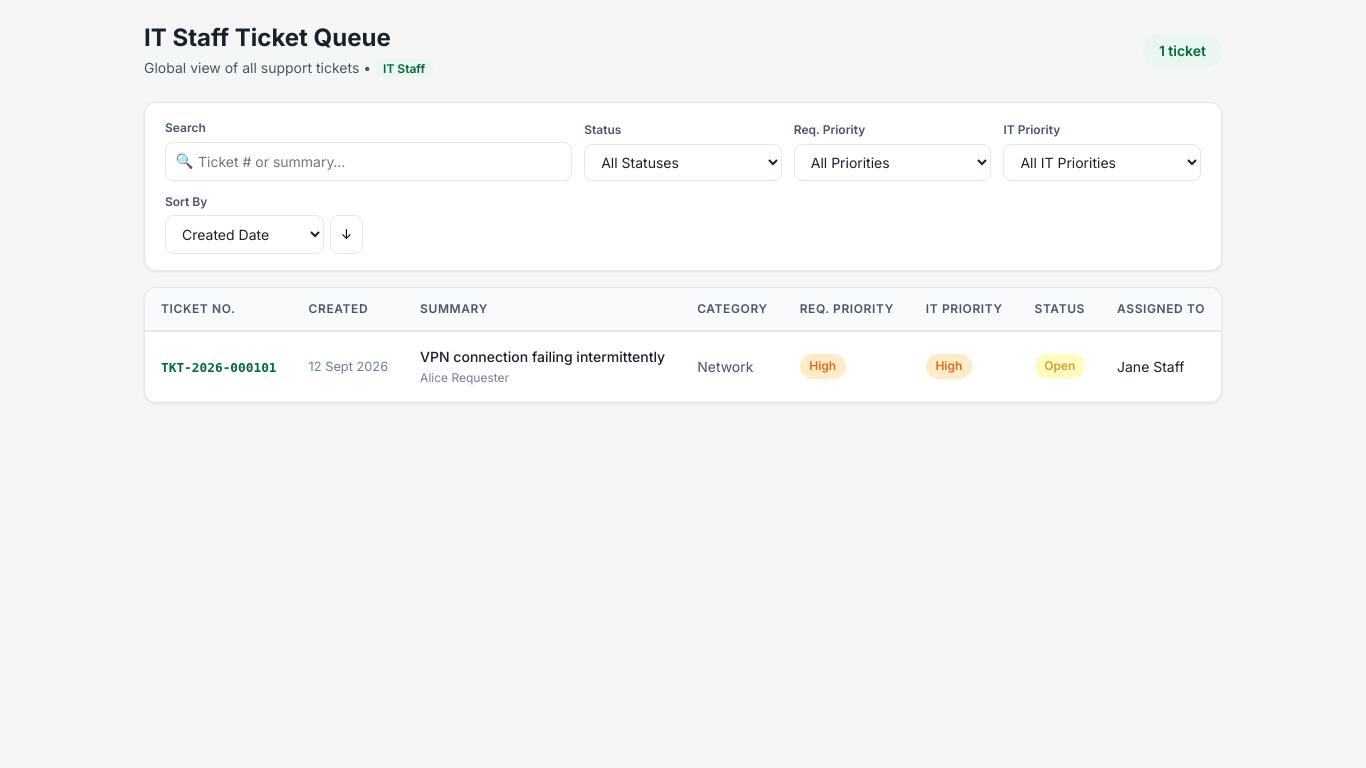
Test: StaffTicketQueue Component › shows no-results state when search/filter query returns no tickets
Expected: the text "TKT-2026-000101" is shown, x1=161 y1=360 x2=277 y2=375
# Type something in the search box to trigger a re-fetch with empty result
In the field with placeholder "Ticket # or summary…": coordinates (369, 161) x1=165 y1=142 x2=572 y2=181, type "nonexistent-search-term"
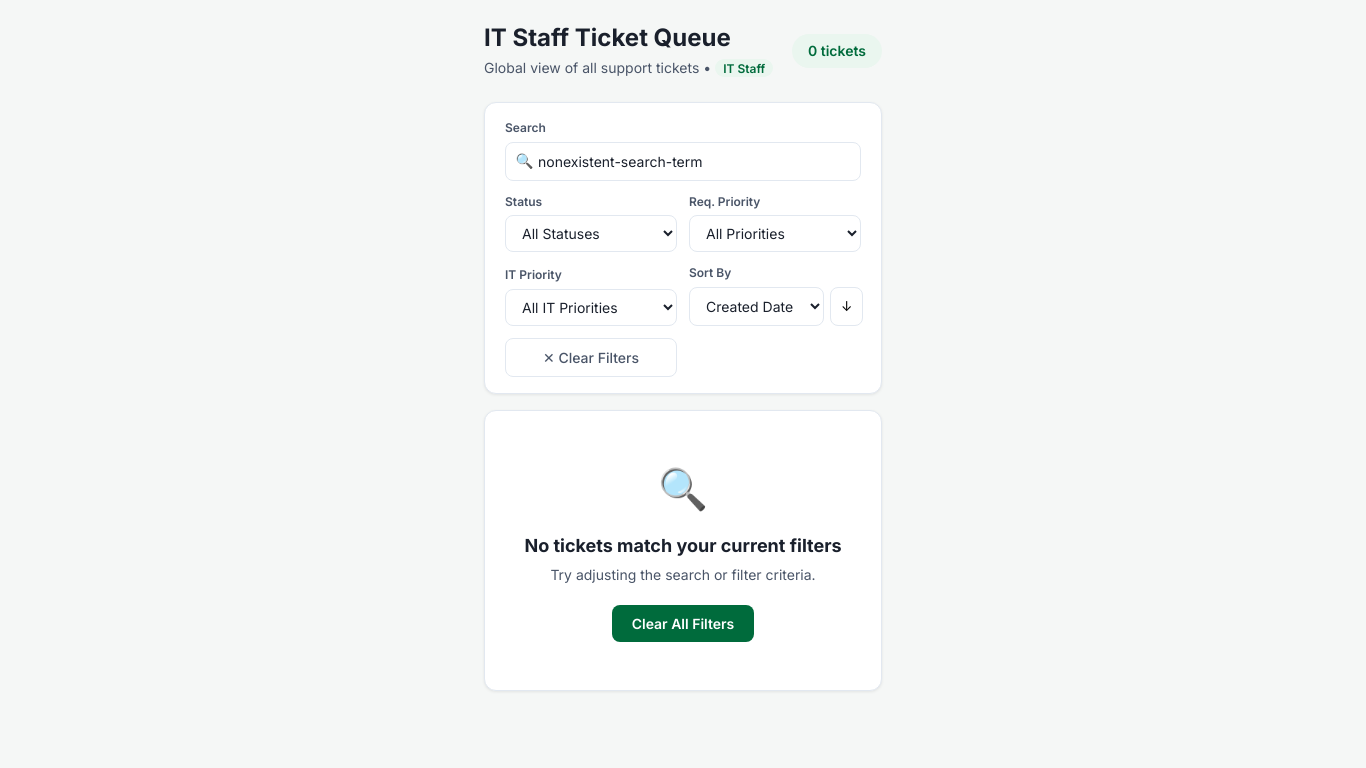
Result: the heading "No tickets match your current filters" is shown at x1=517 y1=535 x2=849 y2=556
